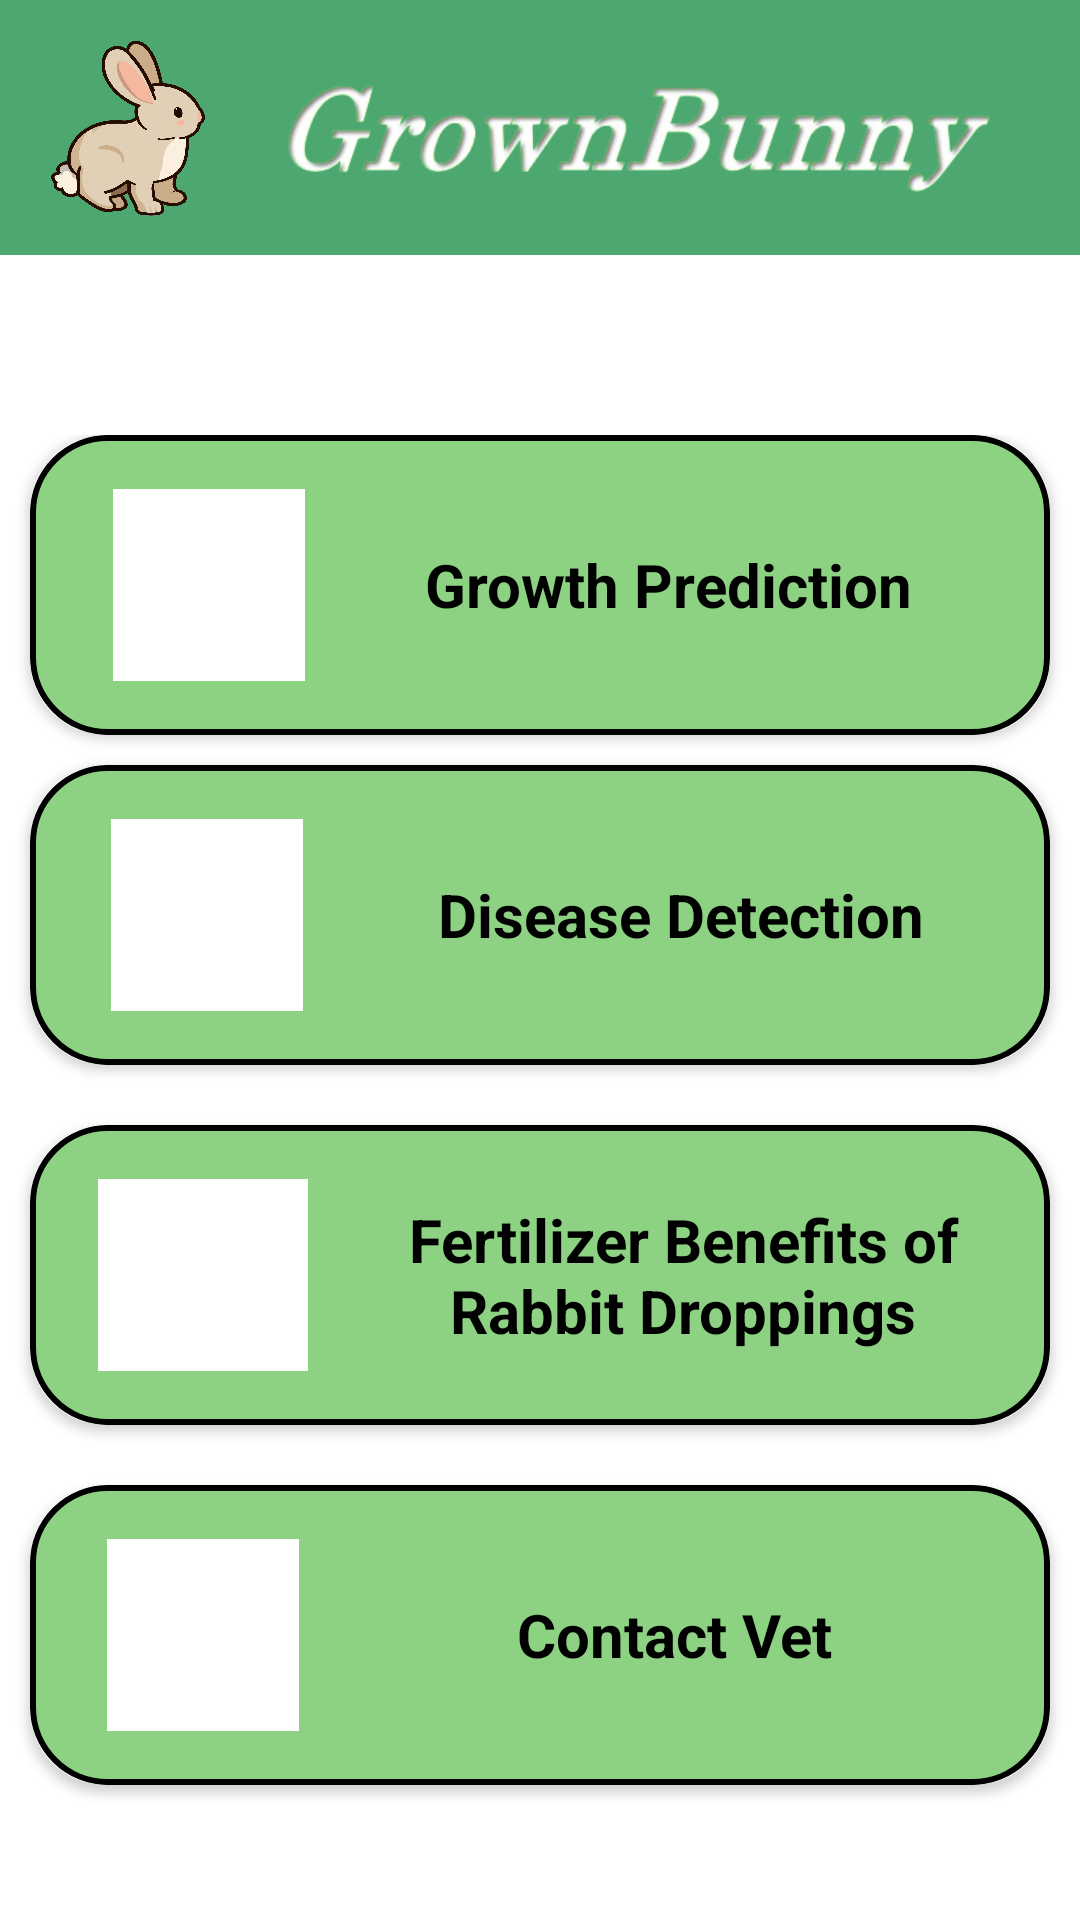

Named icons in this screenshot (1080w x 1920h) and their centers, point (x, y):
bunny: point (128, 128)
